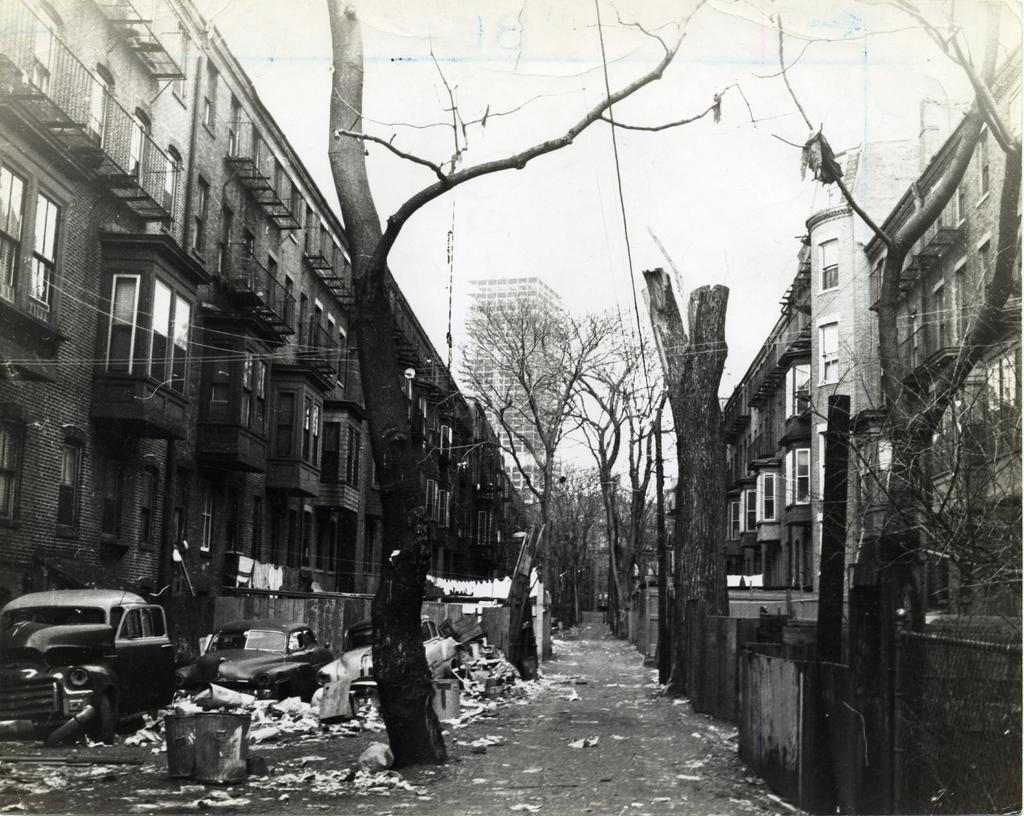Car: (1, 579, 184, 746), (184, 613, 334, 700), (316, 613, 453, 686)
